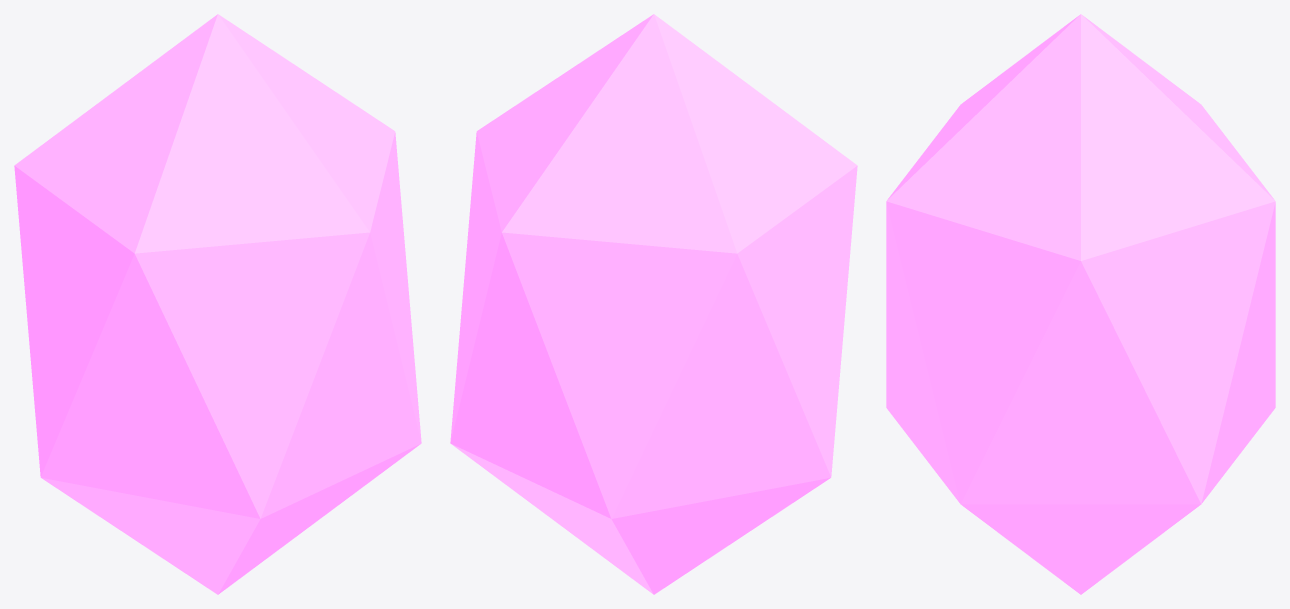
File: find_glowcrystal.fbx
3 renders of one model, left to right at view 1: azimuth 30°, elevation 25°; view 2: azimuth 150°, elevation 25°; view 3: azimuth 270°, elevation 25°, orthographic.
Visible parts, largest first — view 1: find_glowcrystal; view 2: find_glowcrystal; view 3: find_glowcrystal.
Part boxes in pixels (<box>): find_glowcrystal: <box>14,14,421,594</box>; find_glowcrystal: <box>450,14,857,594</box>; find_glowcrystal: <box>886,14,1275,594</box>.
Size of the model in its own units: 1.79 by 2.8 by 1.7.
